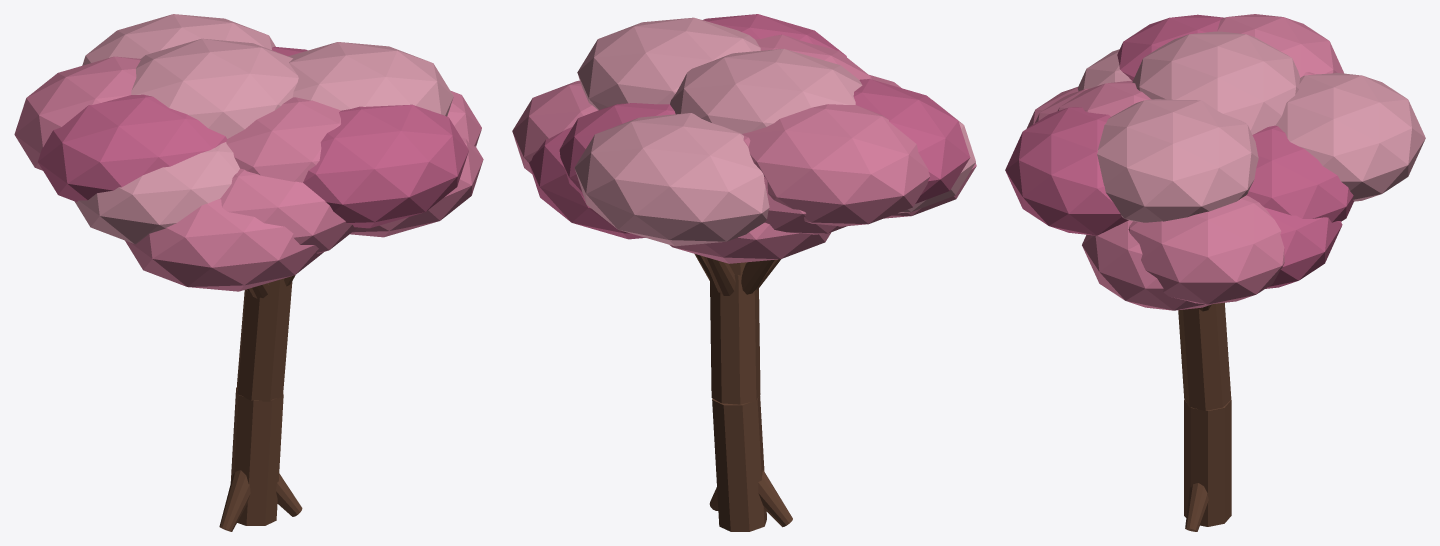
The model's file is cherry_tree.glb.
The picture shows the model from 3 angles, left to right: view 1: azimuth 30°, elevation 25°; view 2: azimuth 150°, elevation 25°; view 3: azimuth 270°, elevation 25°; orthographic projection. The views are drawn at different scales.
Parts seen in each view (by area): view 1: Canopy, Trunk; view 2: Canopy, Trunk; view 3: Canopy, Trunk.
Part boxes in pixels (x1=…): Canopy: x1=14, y1=14, x2=483, y2=291; Trunk: x1=219, y1=275, x2=302, y2=531; Canopy: x1=512, y1=14, x2=976, y2=263; Trunk: x1=694, y1=254, x2=792, y2=531; Canopy: x1=1005, y1=14, x2=1425, y2=310; Trunk: x1=1178, y1=302, x2=1231, y2=531.
Bounding box in the file's own units: 7.09 × 7.6 × 6.39.
